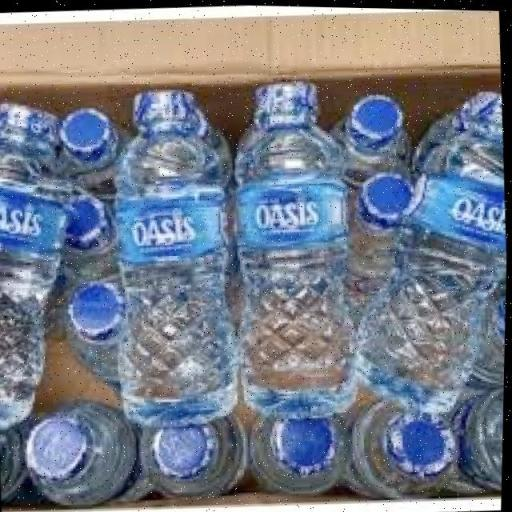plastic: (336, 65, 511, 422), (250, 72, 394, 398), (124, 84, 262, 422), (0, 102, 102, 420), (9, 381, 149, 512), (334, 170, 446, 319), (356, 385, 470, 504), (248, 378, 354, 504), (330, 88, 438, 189), (144, 400, 256, 496), (46, 98, 139, 176), (68, 279, 154, 356), (85, 200, 167, 271)
